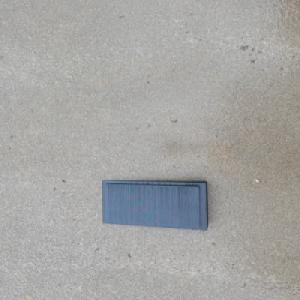PlasticPart: (100, 178, 209, 230)
